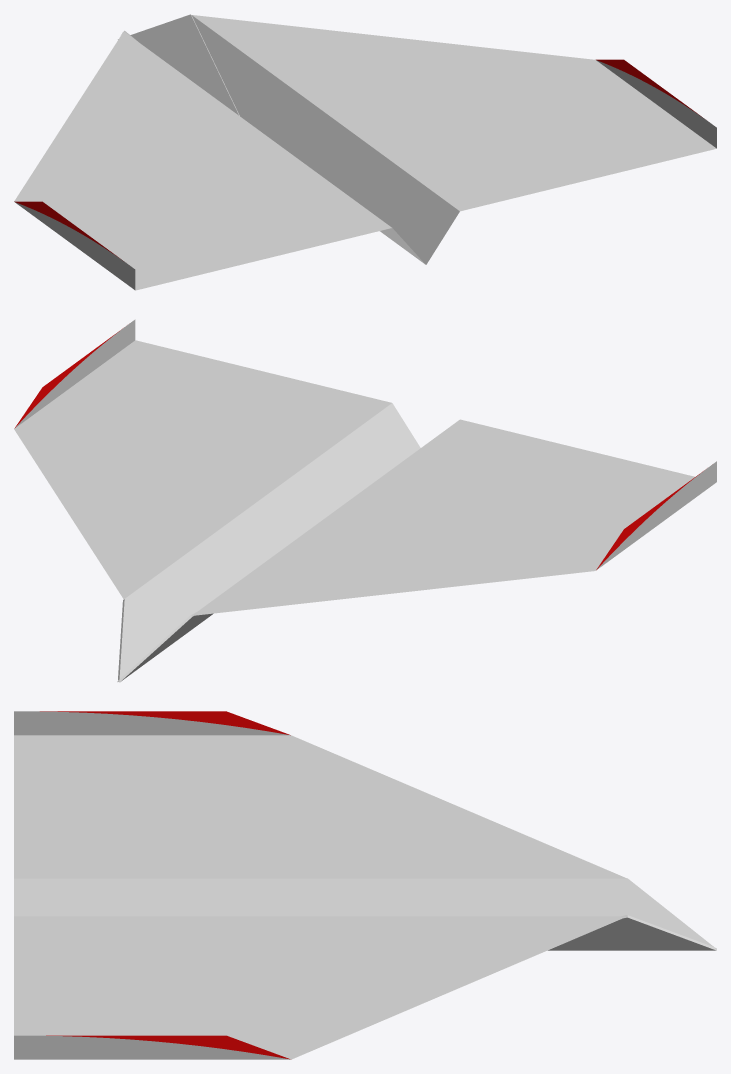
The model's file is paper-plane.fbx.
The picture shows the model from 3 angles, top to bottom: view 1: azimuth 30°, elevation 25°; view 2: azimuth 150°, elevation 25°; view 3: azimuth 270°, elevation 25°; orthographic projection. The views are drawn at different scales.
Parts seen in each view (by area): view 1: Layer0_001; view 2: Layer0_001; view 3: Layer0_001.
Boxes of the visible parts, <box> form: Layer0_001: <box>14,14,716,290</box>; Layer0_001: <box>14,319,716,682</box>; Layer0_001: <box>14,711,716,1059</box>.
Bounding box in the file's own units: 21.65 × 2.39 × 19.84.
